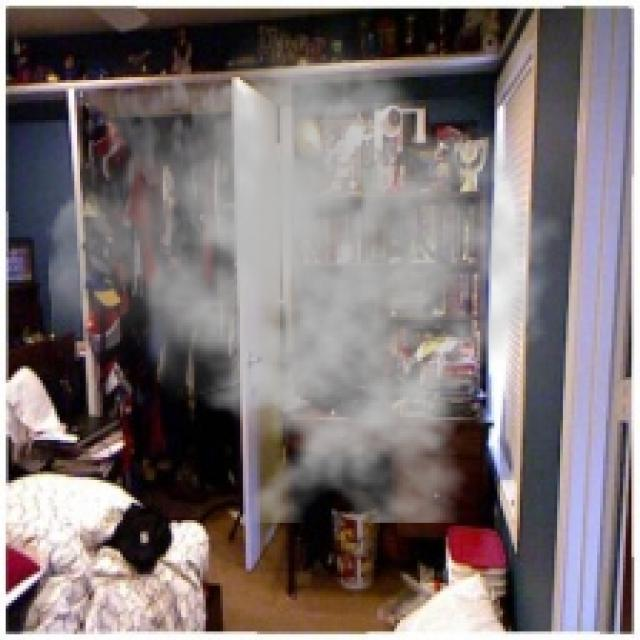Smoke: (46, 8, 566, 523)
